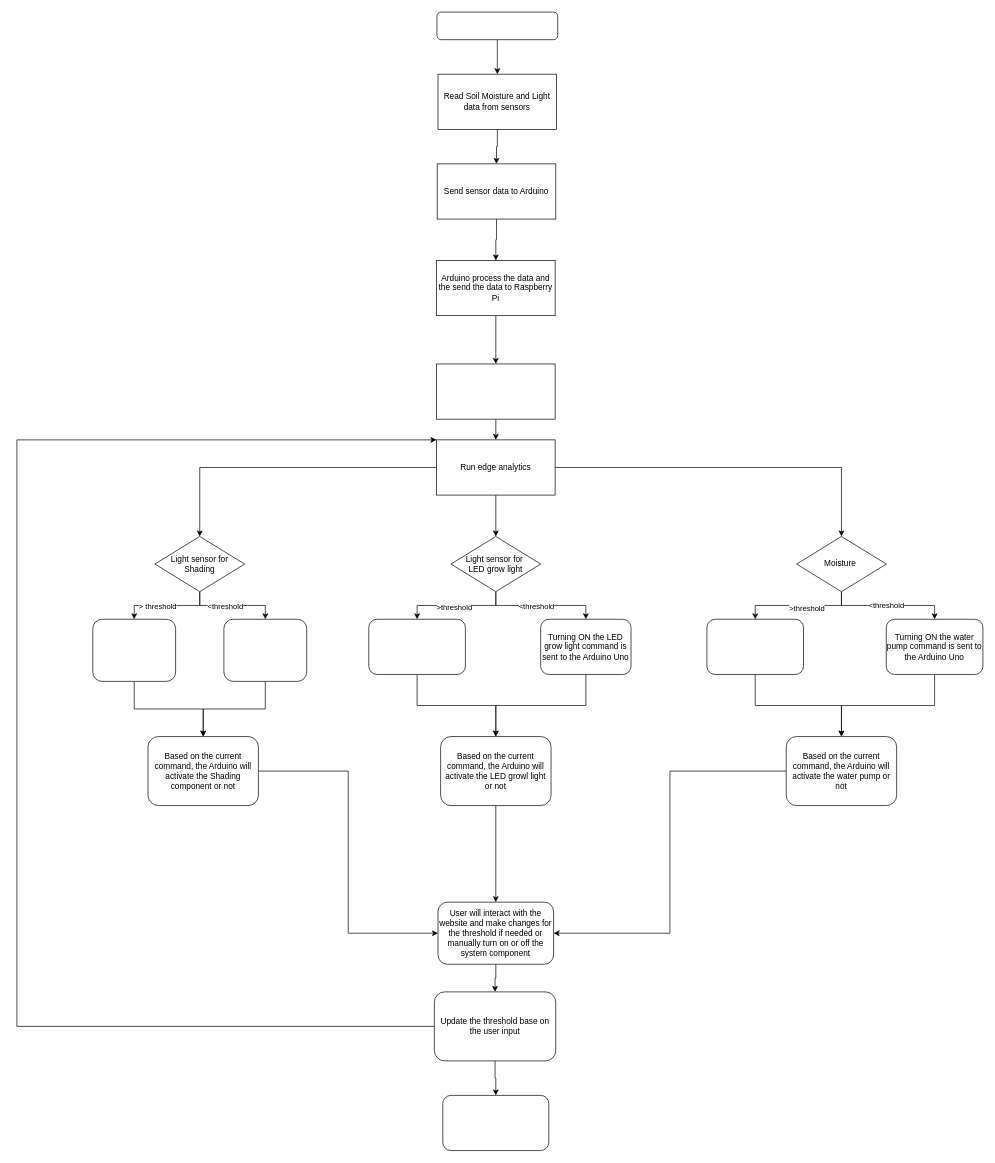
Some shapes in this 995 by 1163 pixel diagram are drawn without their labels. Each missing label, with the centre of its shape:
"End" belongs at (x=495, y=1123).
"Raspberry Pi then store the sensor data in the MariaDB database" belongs at (x=495, y=391).
"Start" belongs at (x=497, y=25).
"Turning OFF the LED grow light command is sent to the Arduino Uno" belongs at (x=416, y=646).
"Turning OFF the shading component command is sent to the Arduino Uno" belongs at (x=265, y=650).
"Turning OFF the water pump command is sent to the Arduino Uno" belongs at (x=755, y=646).
"Turning ON the shading component command is sent to the Arduino Uno" belongs at (x=134, y=650).
